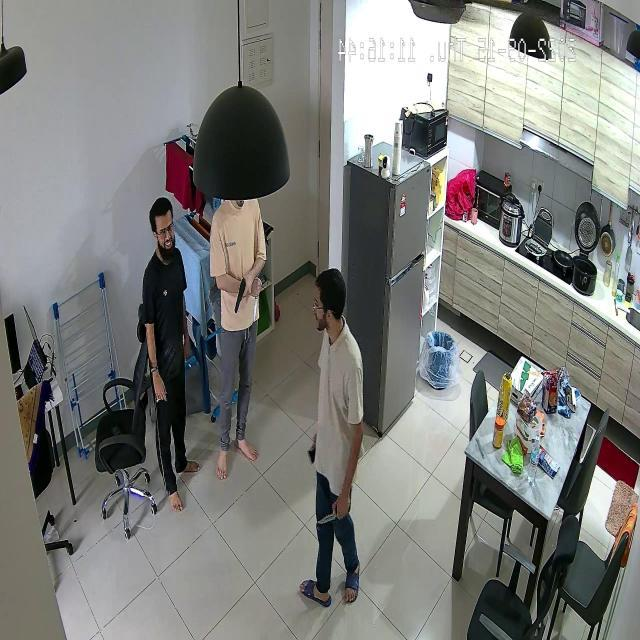Gun: (228, 270, 250, 318)
Knife: (312, 502, 358, 538)
